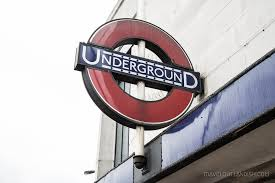London Underground: (78, 18, 201, 126)
